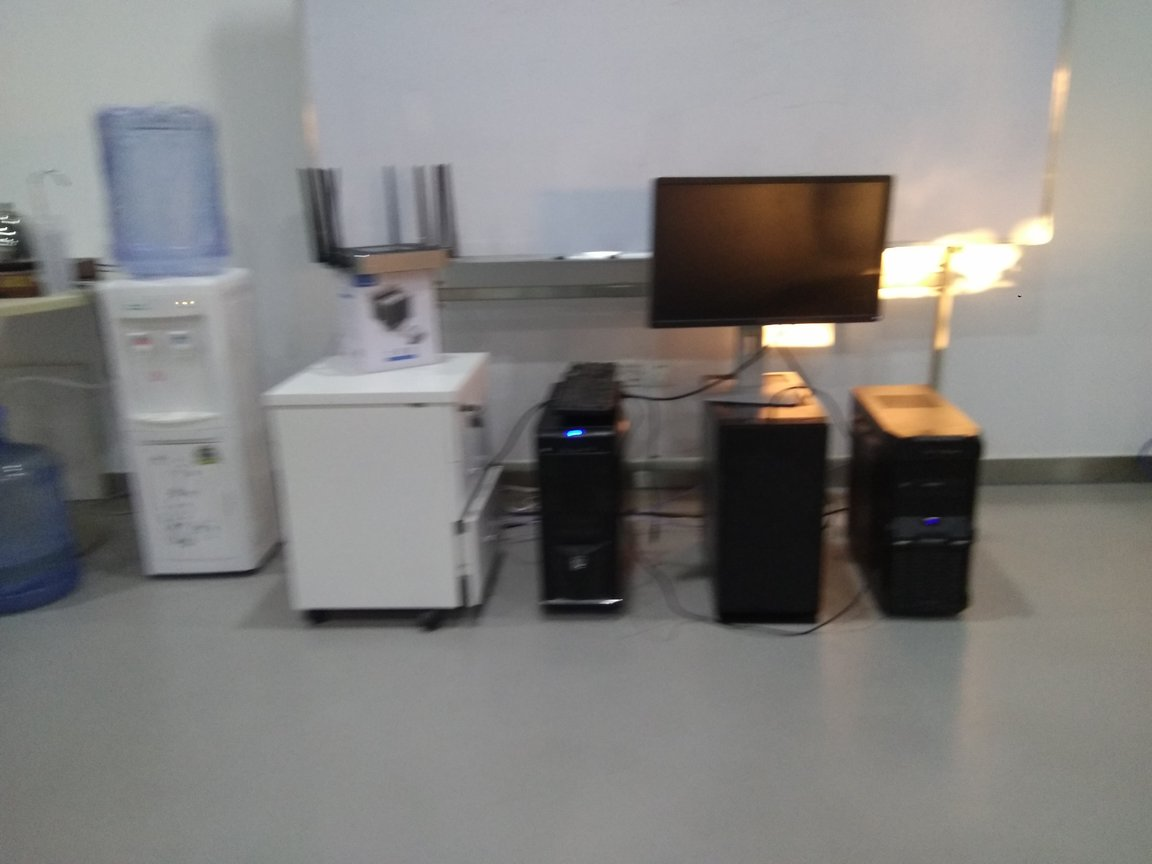computer: (702, 371, 832, 628), (852, 381, 981, 627), (538, 380, 637, 624)
drawer chest: (269, 353, 498, 642), (88, 265, 282, 586)
monitor: (647, 167, 890, 412)
scuttlebutt: (86, 105, 245, 291), (1, 432, 85, 616)
